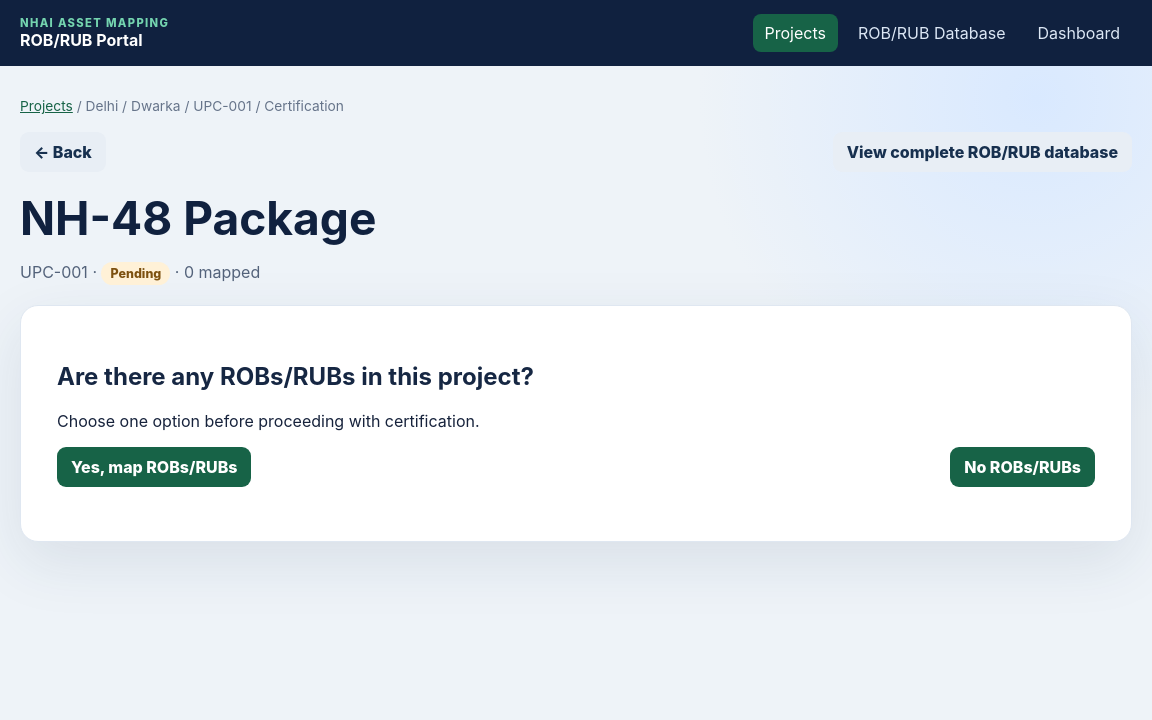
certification portal › certifies a project with no mappings
The width and height of the screenshot is (1152, 720).
Click the button "No ROBs/RUBs". click: (1023, 467)
box: [950,447,1095,487]
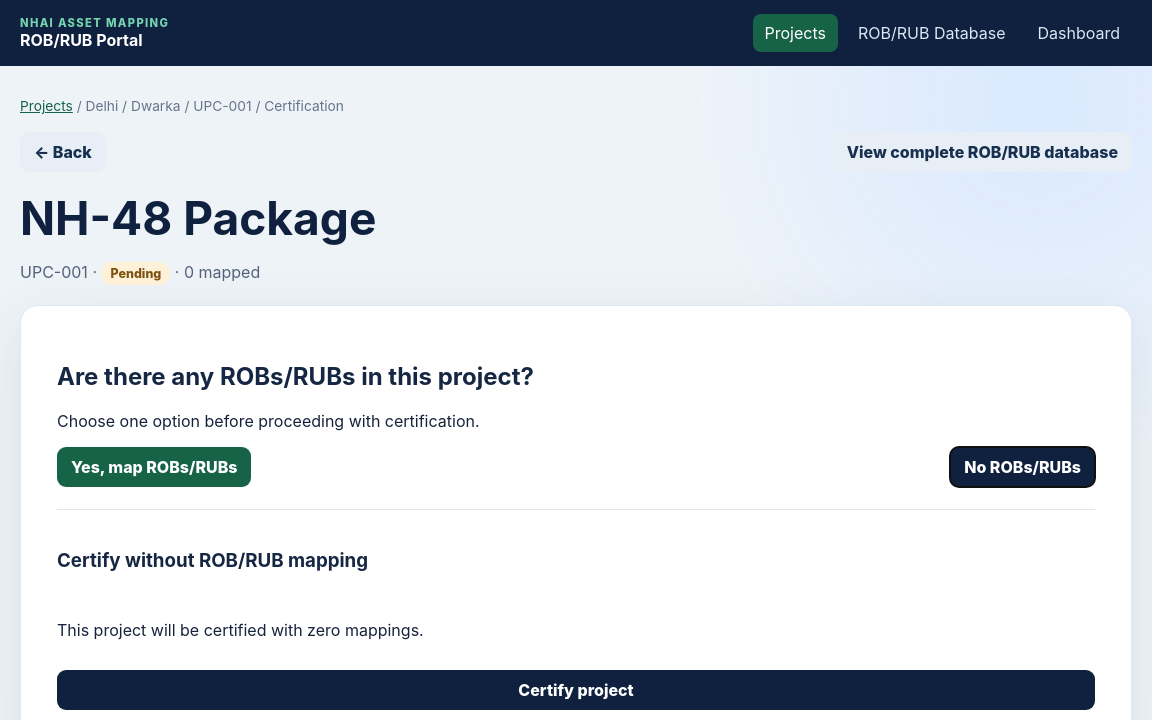
Click the button "Certify project". click: (576, 690)
box: [57,670,1095,710]
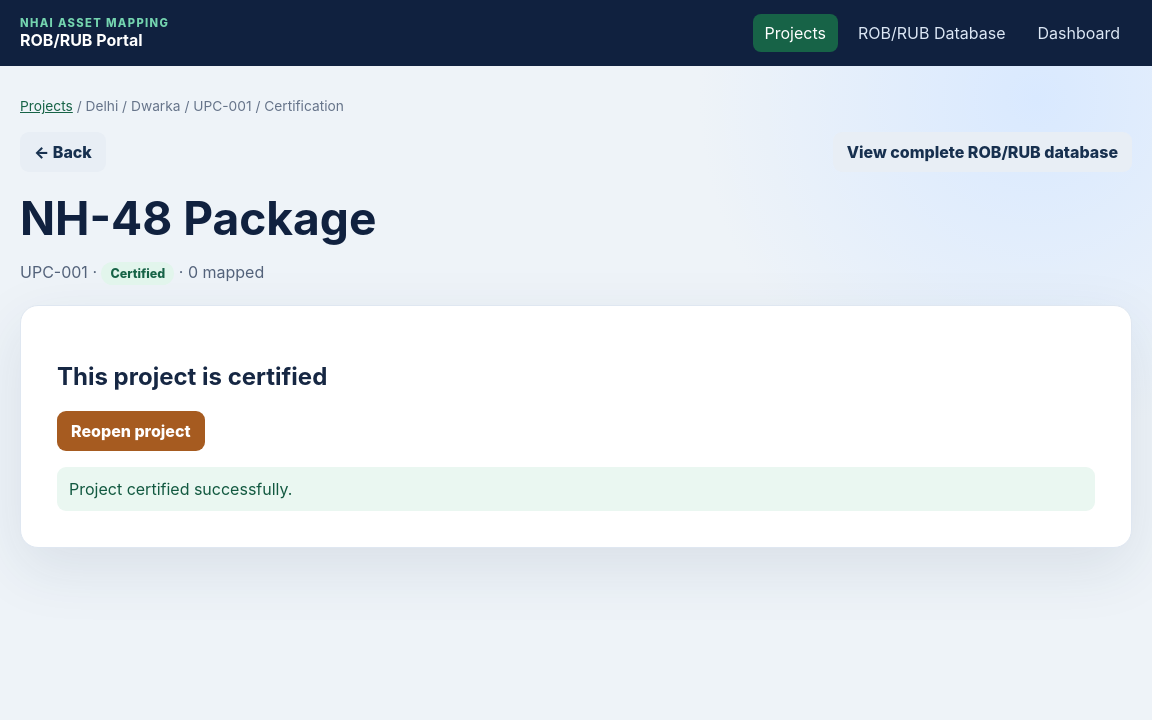
Check: the text "Project certified successfully." is shown, box [57,467,1095,511]
